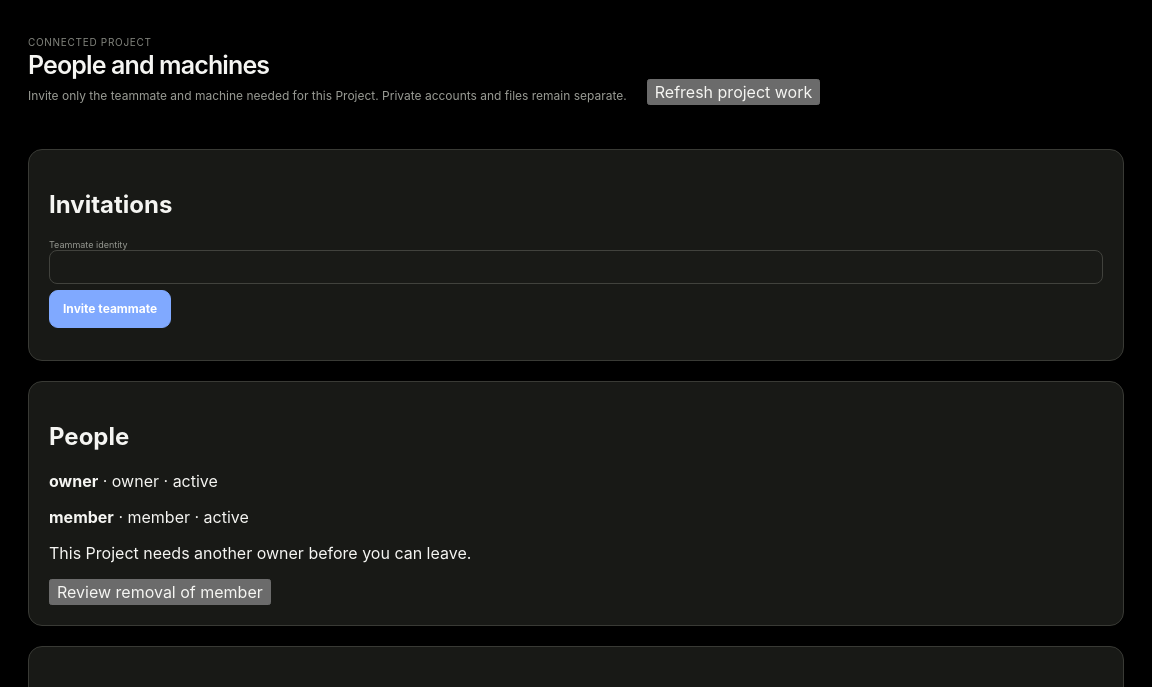
Test case: PROJECT-MEMBER-REMOVAL-1: capability absence withholds removal and lost acknowledgement never retries
Click the button "Review removal of member" at coordinates (160, 592), box [49, 579, 271, 605]
(page scrolled)
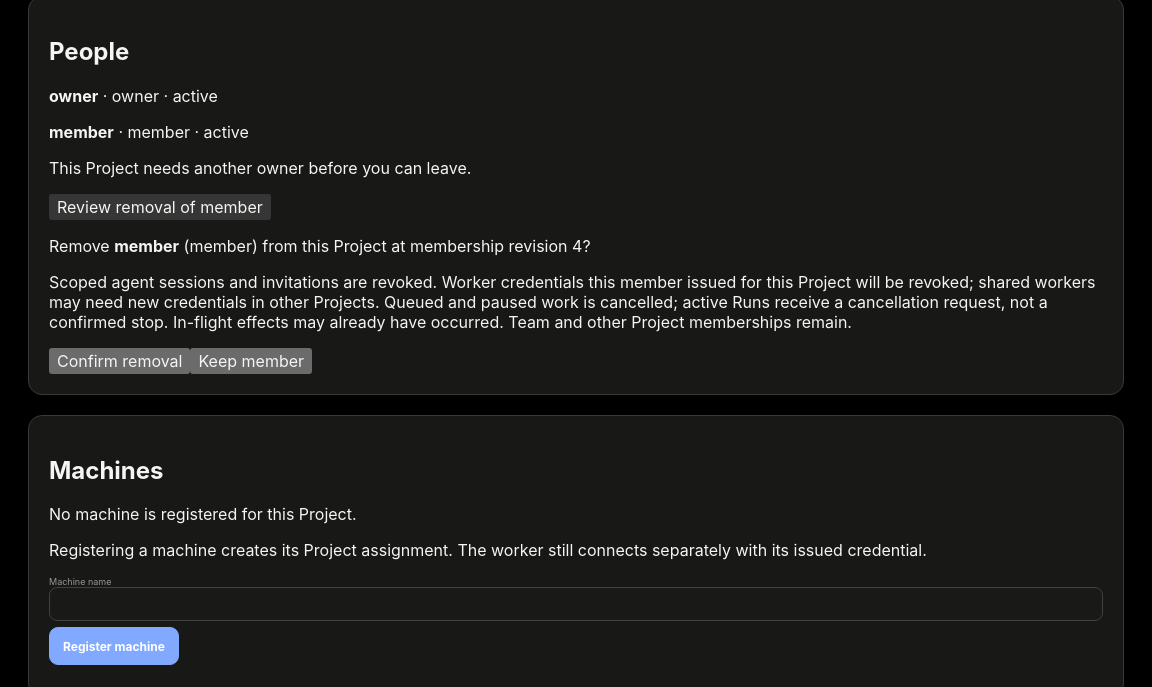
Click the button "Confirm removal" at coordinates (120, 361), box [49, 348, 190, 374]
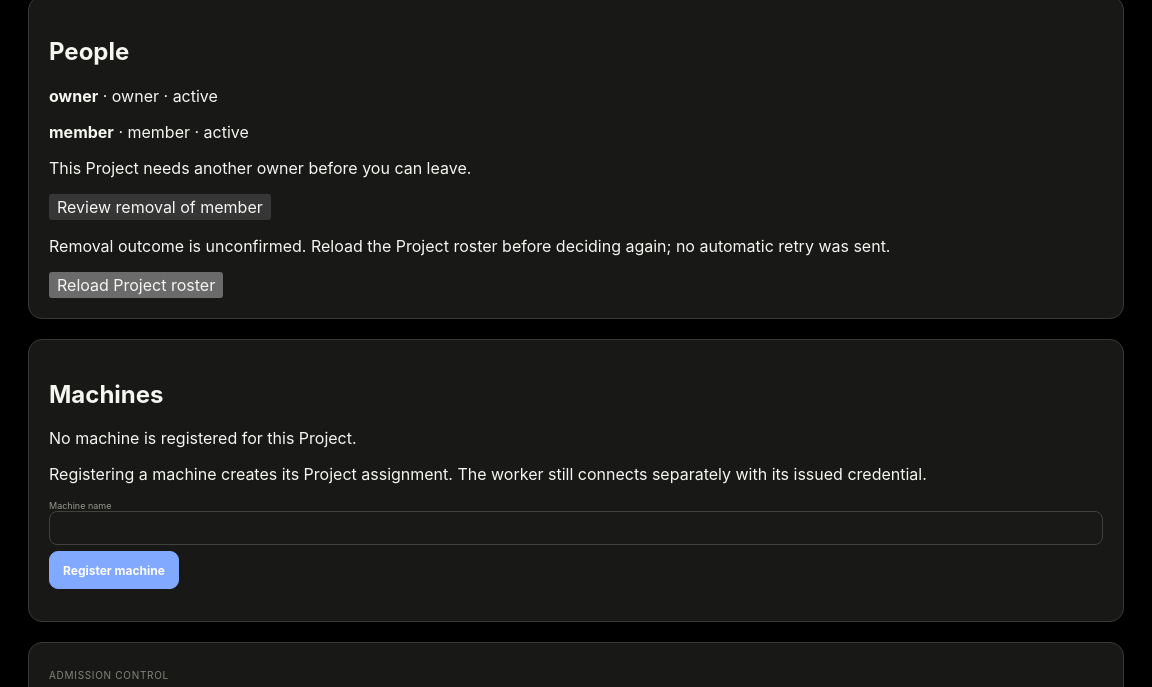
Expected: the button "Reload Project roster" is shown, [49, 272, 223, 298]
